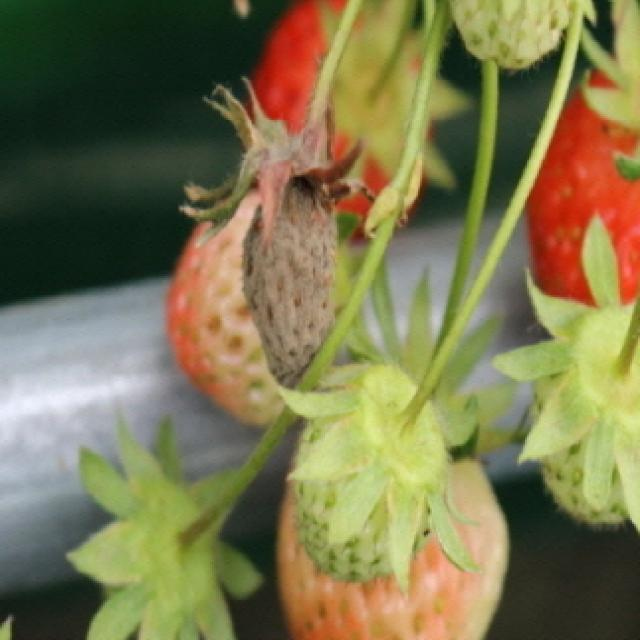Gray Mold: (179, 74, 374, 389)
